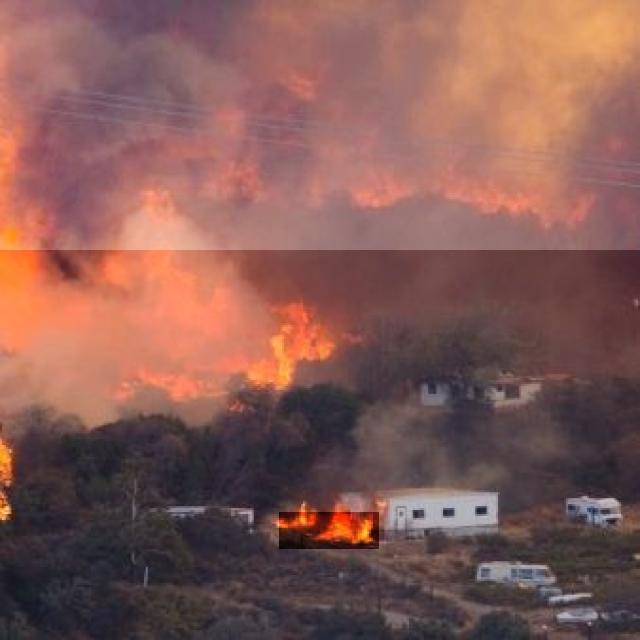Fire: (188, 318, 330, 405), (279, 512, 379, 549)
Smoke: (0, 0, 640, 250)
